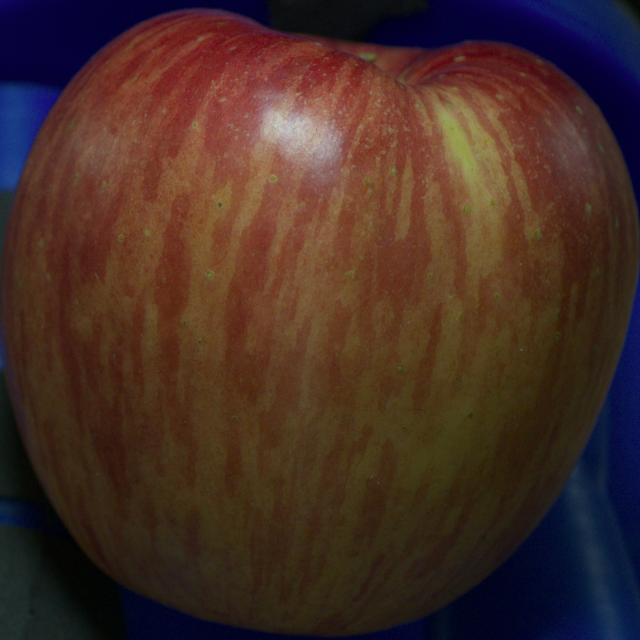apple: (0, 10, 639, 634)
